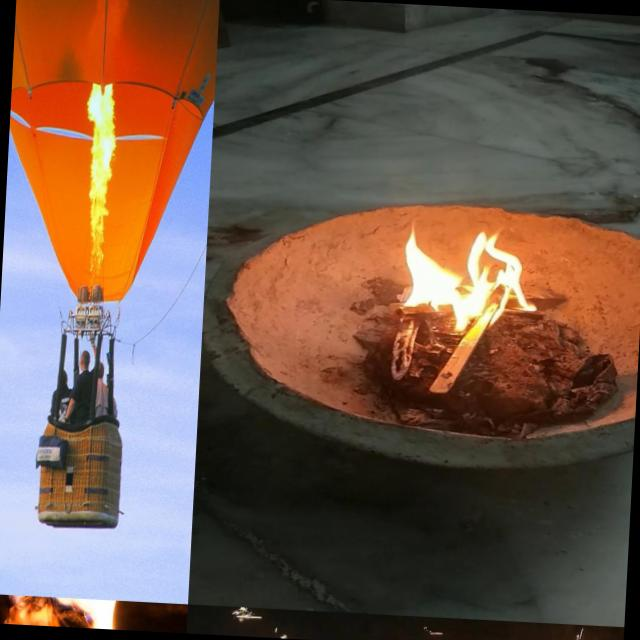fire: (393, 205, 548, 338), (74, 71, 127, 280), (0, 594, 139, 630)
